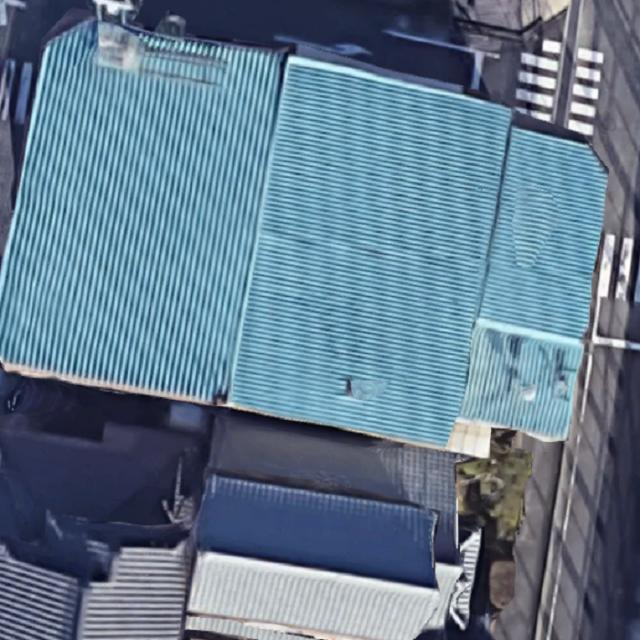Batiment: (0, 23, 605, 446), (0, 23, 284, 402), (188, 474, 464, 639), (208, 411, 458, 562)
